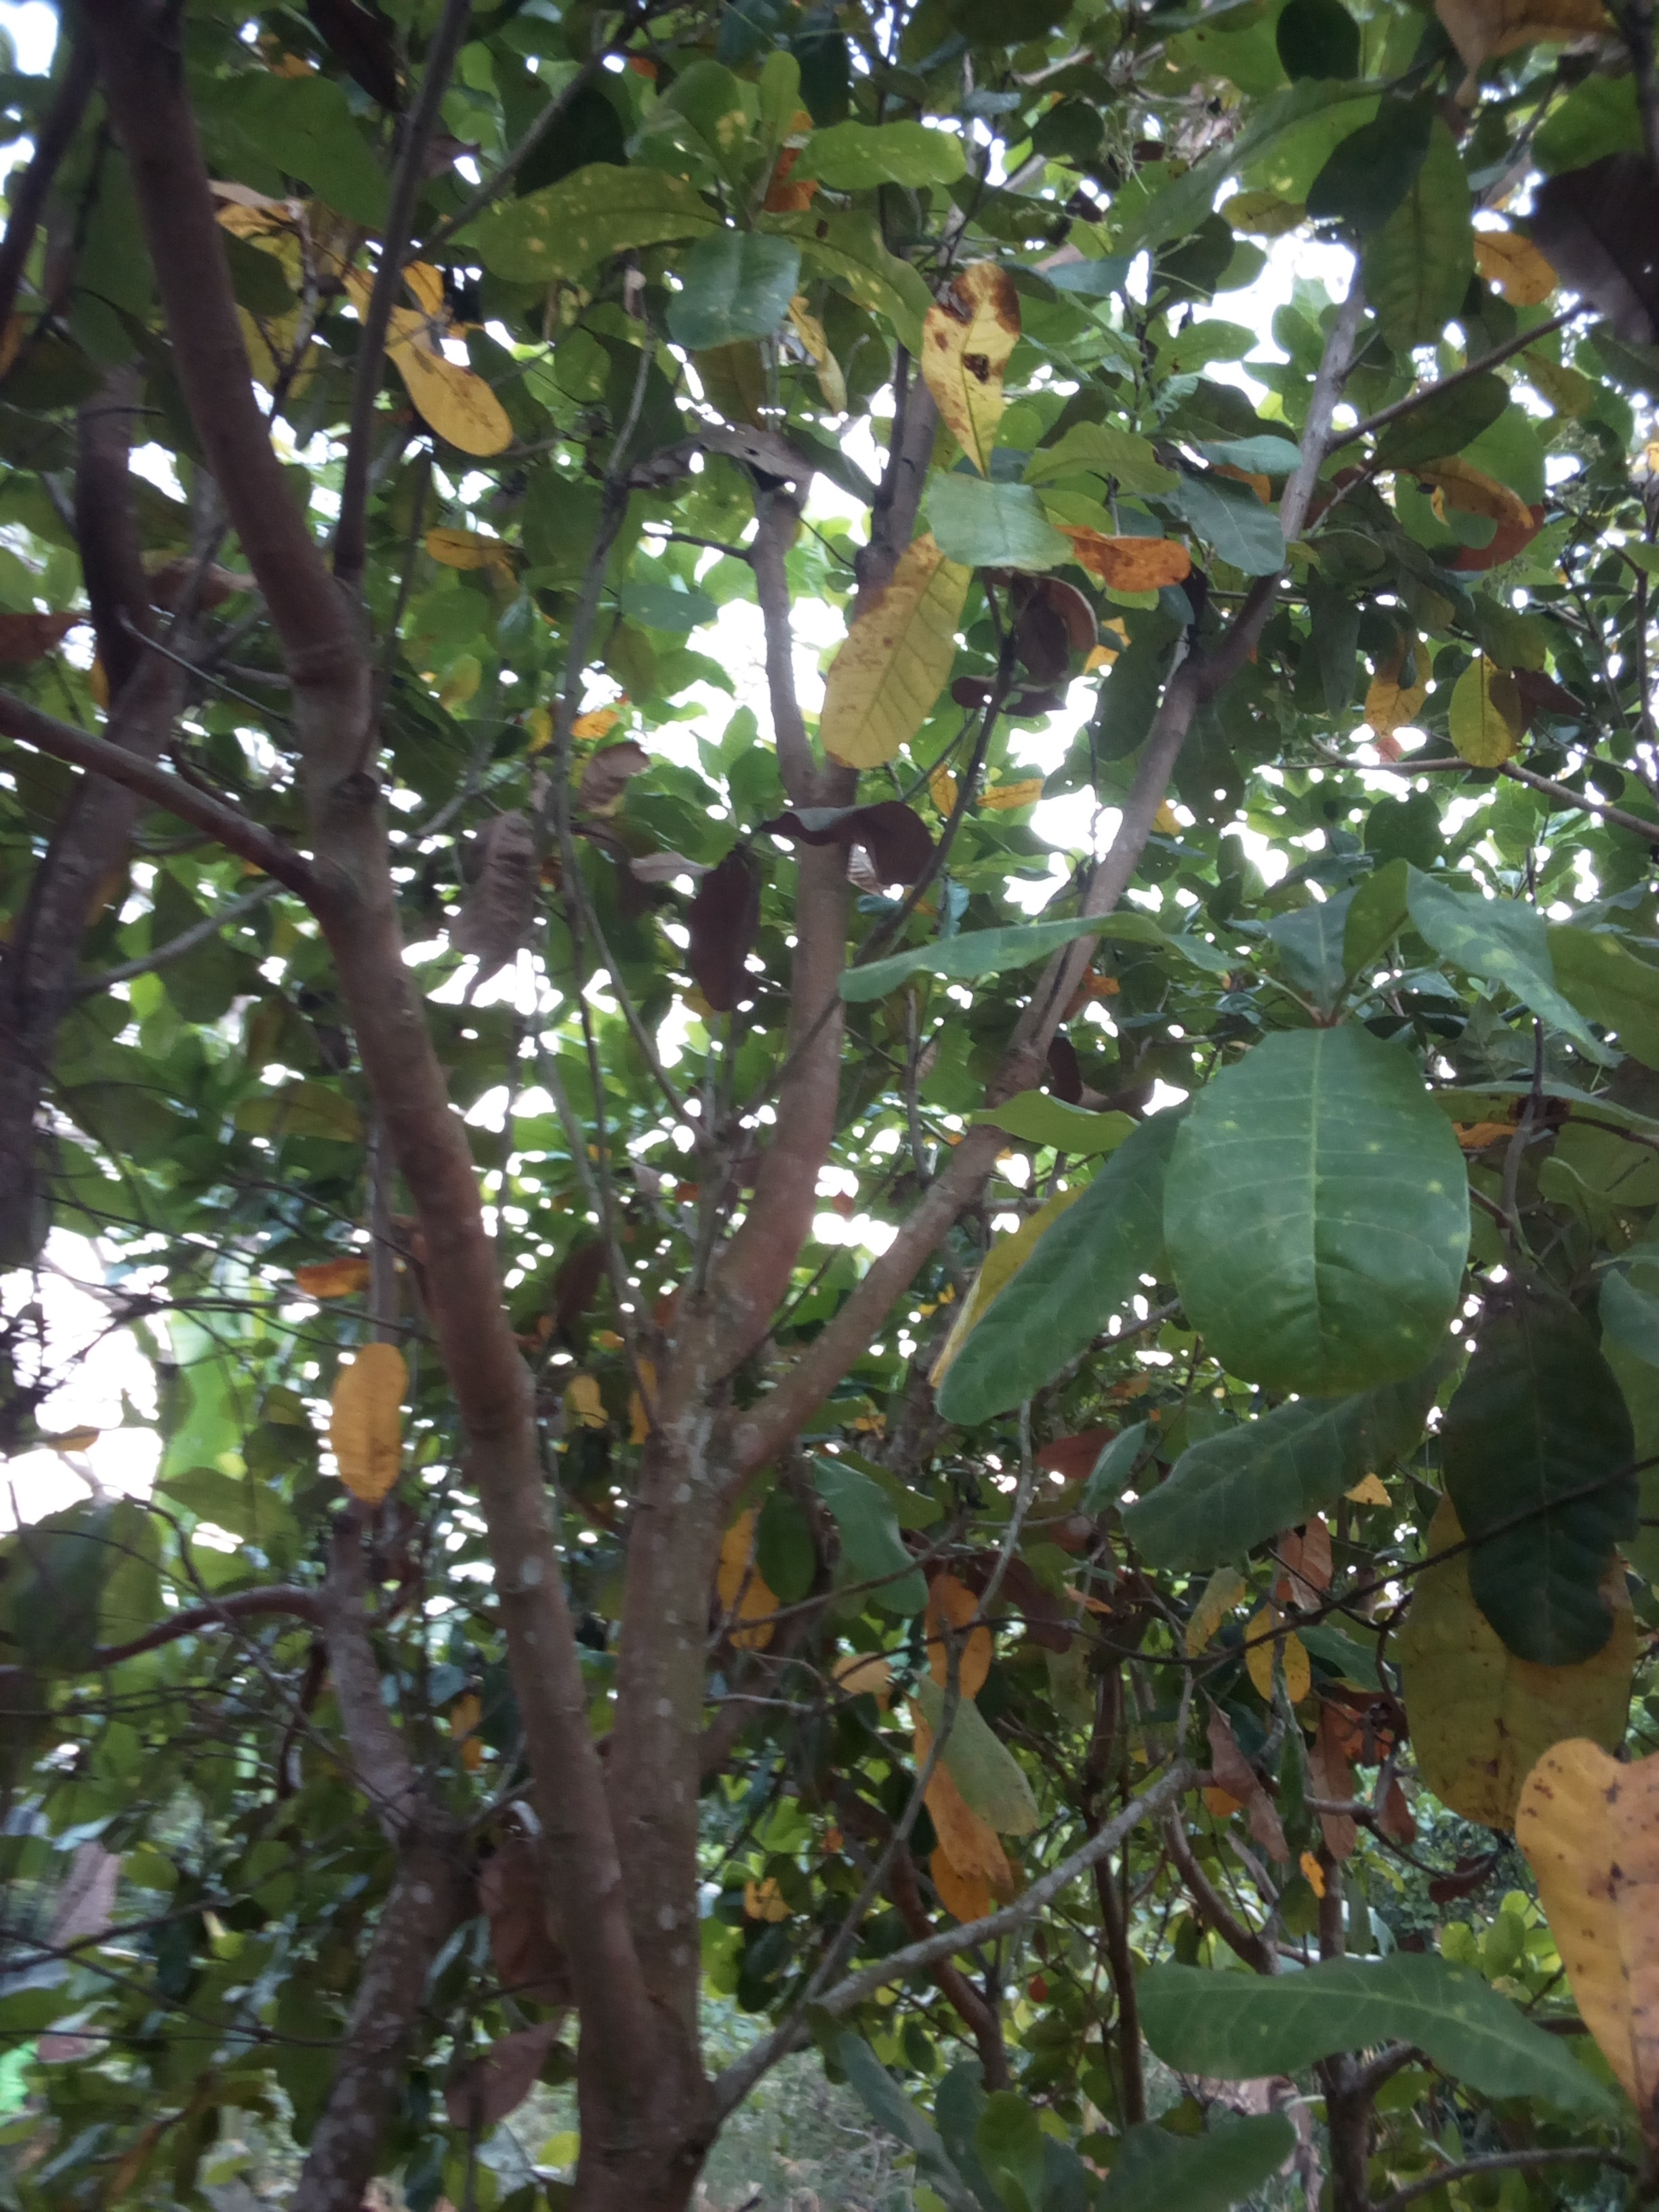Bactériose: (1521, 1757, 1659, 2078), (920, 253, 1023, 472)
